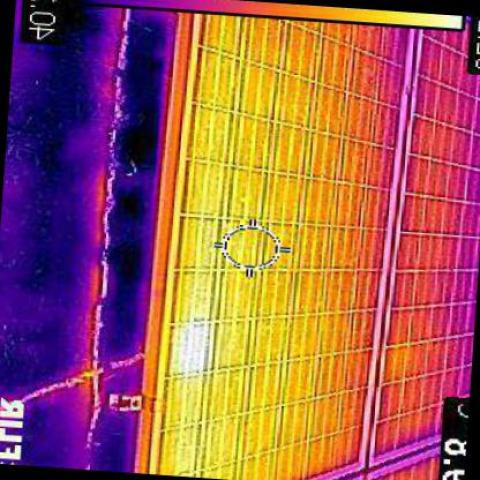fault: (171, 321, 212, 372)
